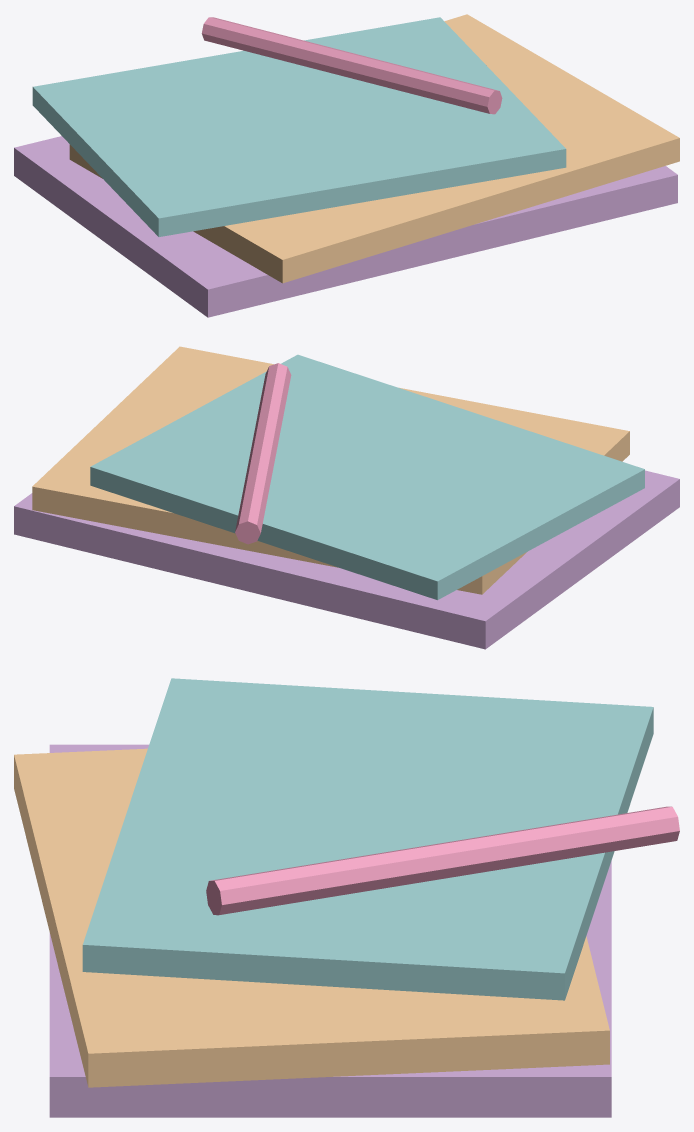
File: deco_quaderni_01.glb
3 views of the same model, one above another, from view 1: azimuth 30°, elevation 25°; view 2: azimuth 150°, elevation 25°; view 3: azimuth 270°, elevation 25° (orthographic). The views are drawn at different scales.
Parts seen in each view (by area): view 1: deco_quaderni_01; view 2: deco_quaderni_01; view 3: deco_quaderni_01.
Part boxes in pixels (x1,y1,x2,y2): deco_quaderni_01: (14,14,679,317); deco_quaderni_01: (14,346,679,649); deco_quaderni_01: (14,678,679,1117).
Size of the model in its own units: 0.22 by 0.0434 by 0.1778.
